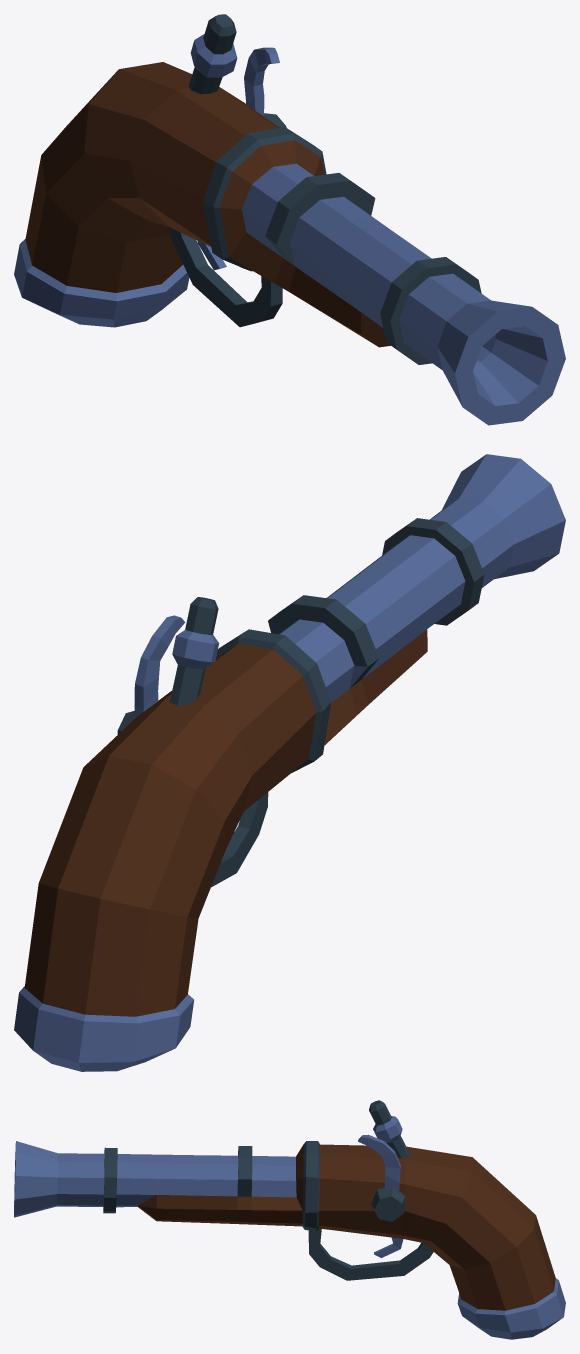
Rendered from Pirate Gun_1.fbx.
3 renders of one model, top to bottom at view 1: azimuth 30°, elevation 25°; view 2: azimuth 150°, elevation 25°; view 3: azimuth 270°, elevation 25°, orthographic. The views are drawn at different scales.
Parts seen in each view (by area): view 1: Pirate Gun_1; view 2: Pirate Gun_1; view 3: Pirate Gun_1.
Boxes of the visible parts, x1,y1,x2,y2 form: Pirate Gun_1: [14, 14, 565, 425]; Pirate Gun_1: [14, 454, 565, 1071]; Pirate Gun_1: [14, 1100, 565, 1339].
Size of the model in its own units: 0.0454 by 0.1049 by 0.2331.
